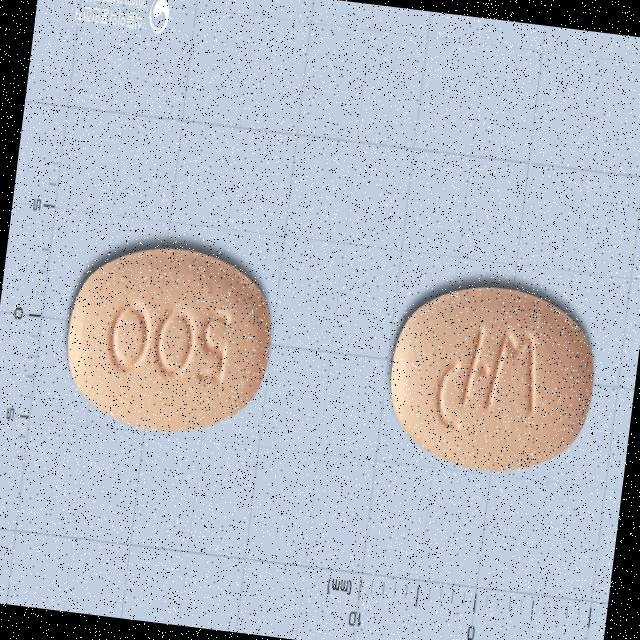Highloxin: (378, 274, 603, 483), (56, 238, 280, 446)
